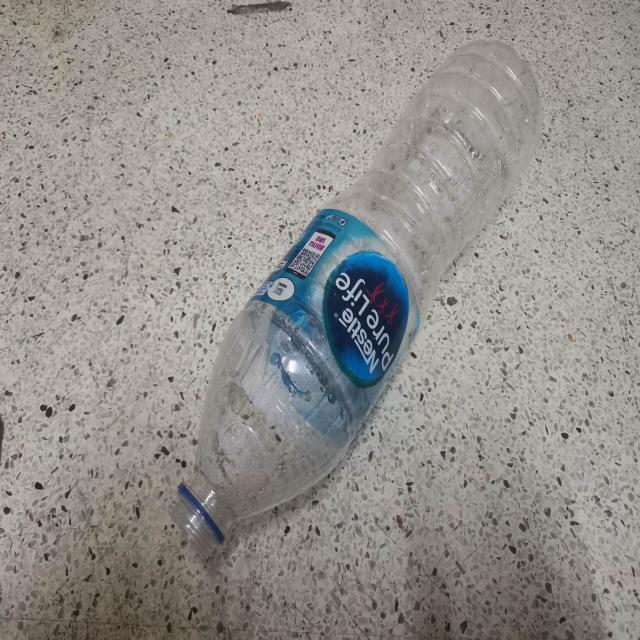plastic_bottle: (167, 40, 540, 558)
